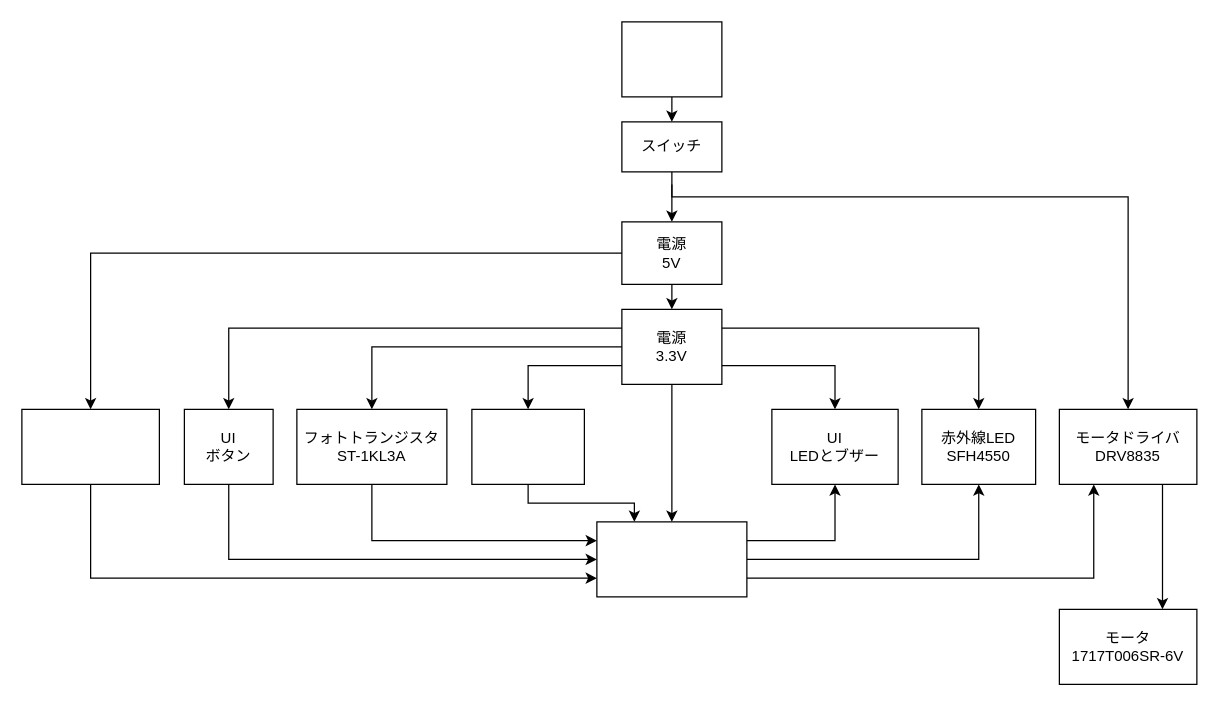
Image size: 1219x706. Some labels were removed from this diagram. Here are the shapes that lost their labels. From the top down, the centre of each, then its label:
At [671,59]: "バッテリ 7.4V".
At [90,446]: "エンコーダ モータとセット".
At [527,446]: "IMU ICM-20648".
At [671,559]: "マイコン STM32F405RGT6".
